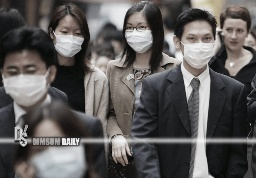correctlyWear: (1, 55, 56, 106), (172, 28, 216, 70), (50, 20, 85, 57), (123, 17, 154, 53)
noWear: (219, 22, 248, 52)
